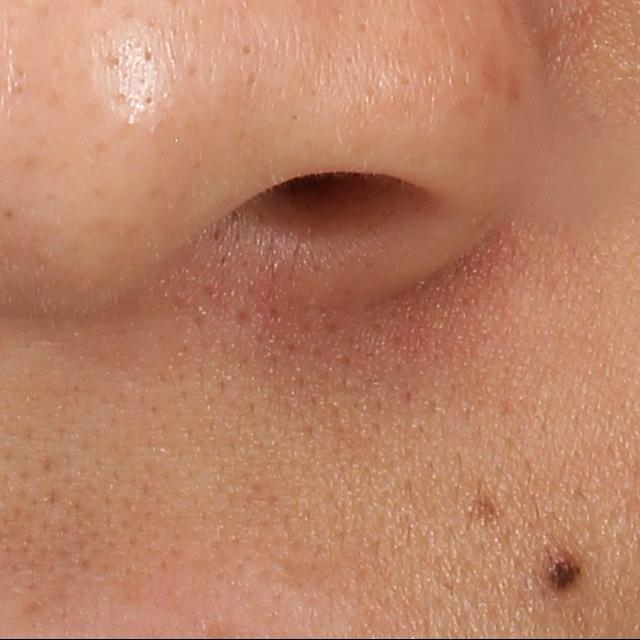nevus: (534, 550, 582, 595), (457, 486, 499, 524)
